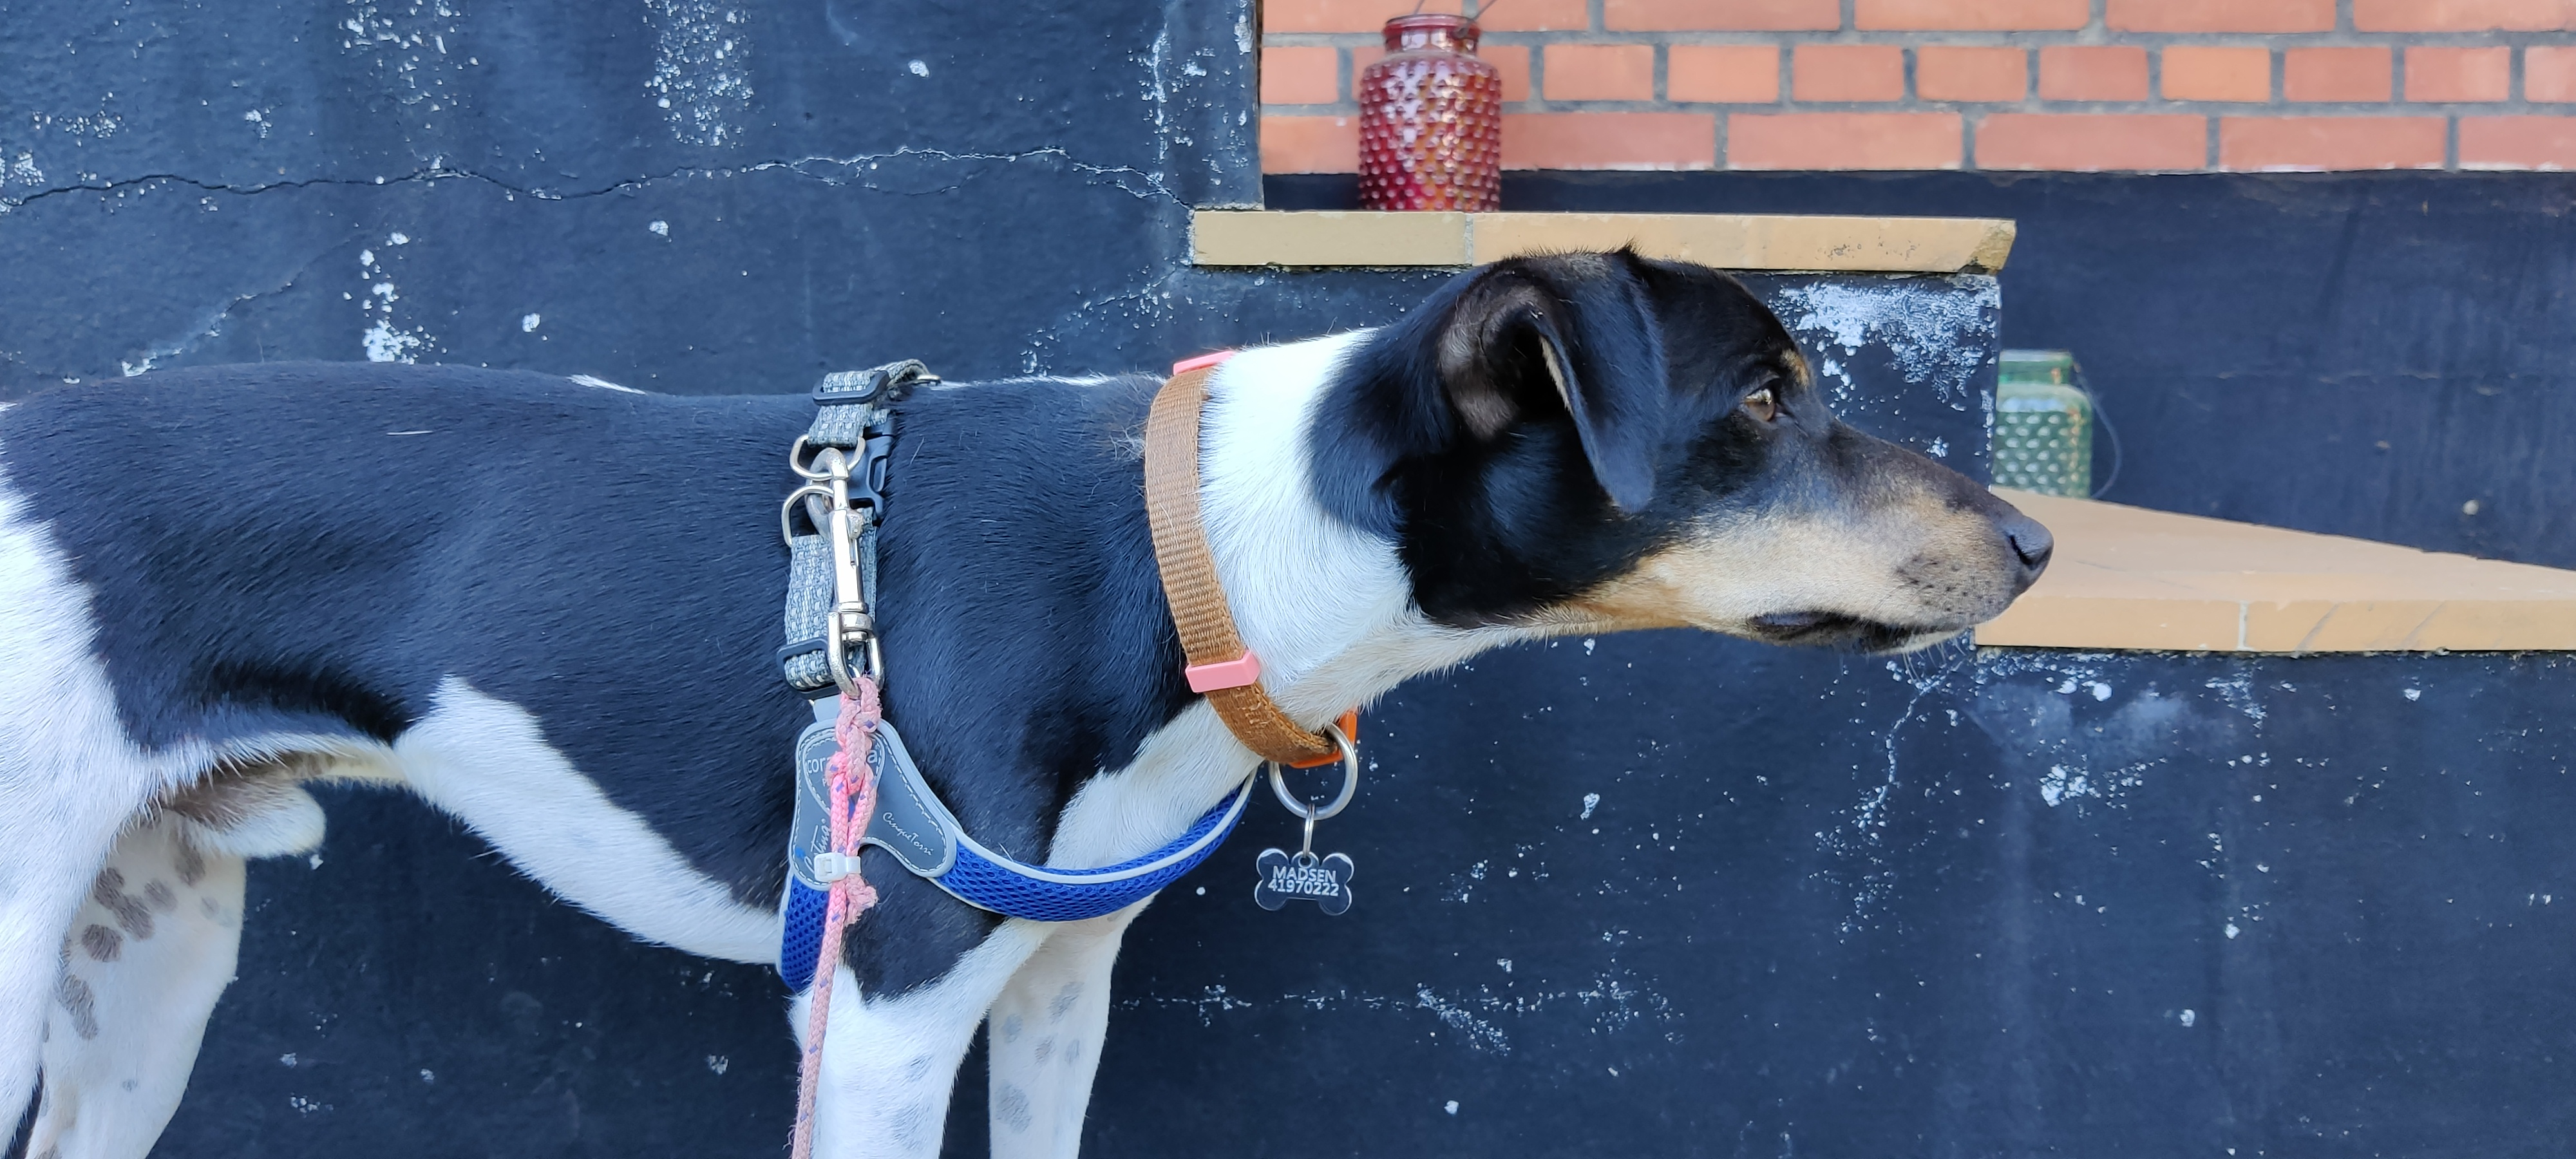Dog: (0, 236, 2065, 1159)
